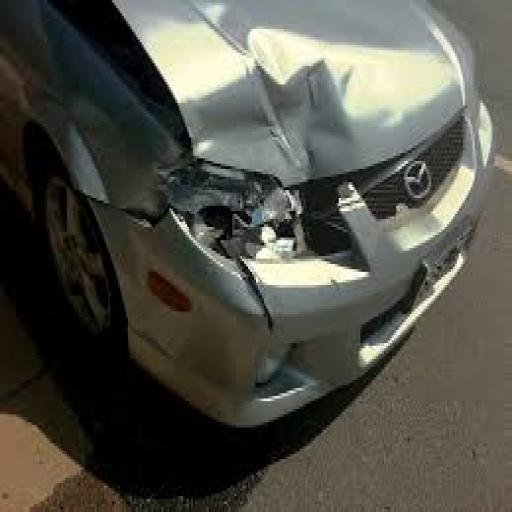broken-light: (124, 120, 416, 424)
